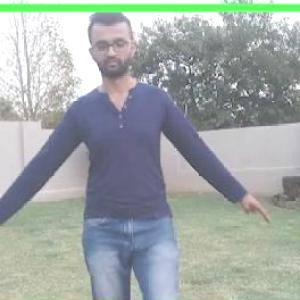land: (1, 17, 276, 299)
